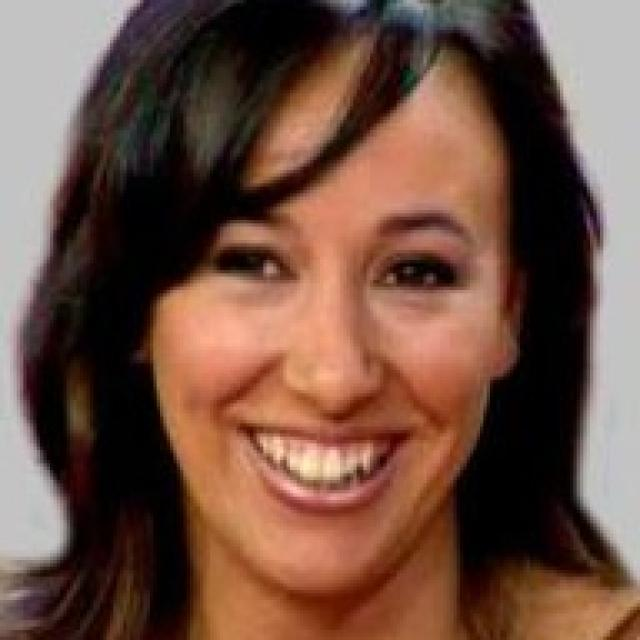Normal: (148, 37, 508, 602)
